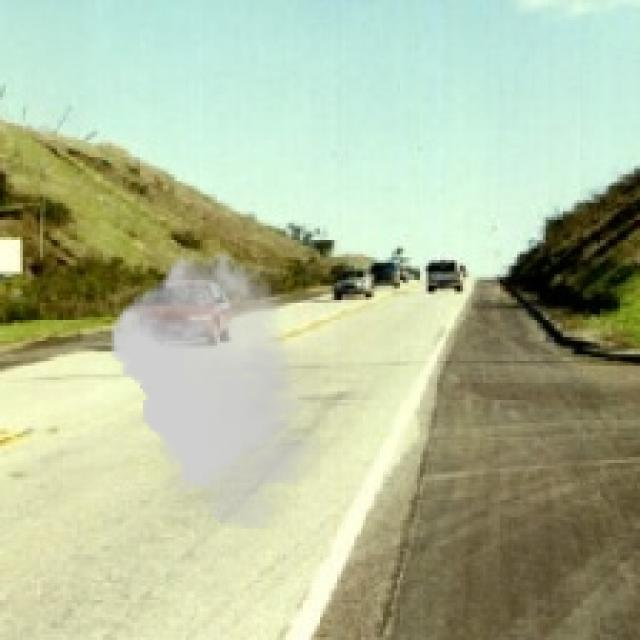Smoke: (111, 252, 320, 528)
